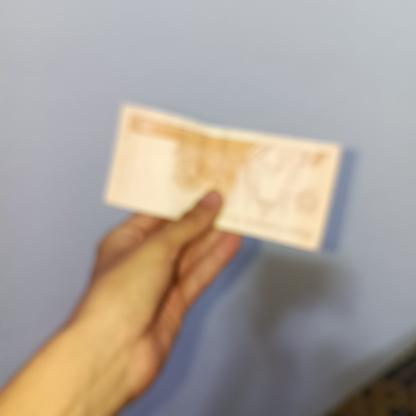twenty-back-vef: (104, 104, 339, 249)
